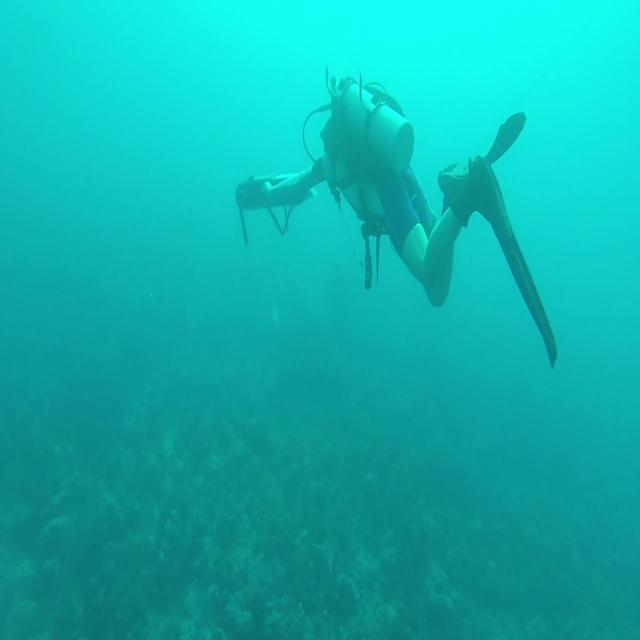human: (235, 63, 558, 370)
